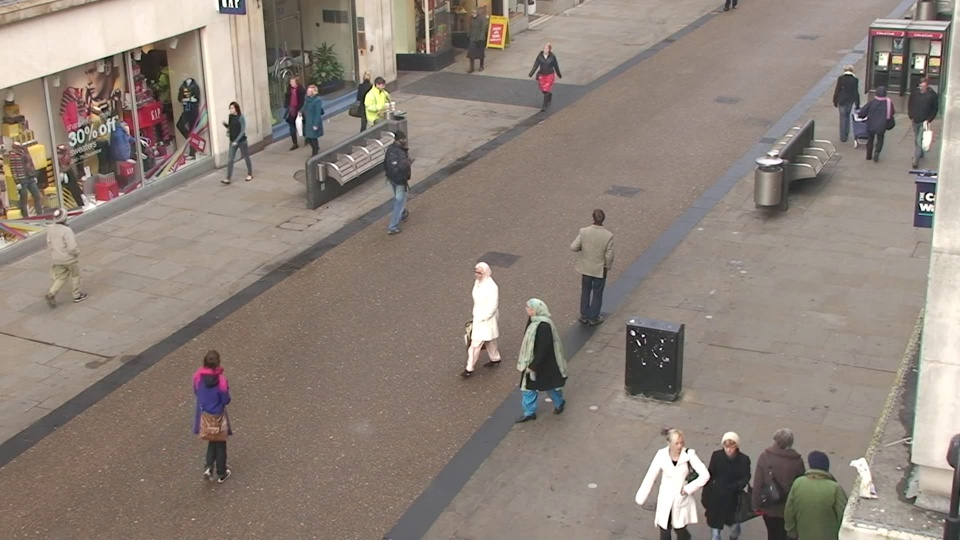pedestrian: (188, 339, 248, 491), (750, 415, 812, 540), (697, 419, 758, 540), (645, 417, 704, 540), (782, 436, 847, 540), (512, 291, 557, 433), (40, 203, 95, 319), (463, 254, 507, 387), (579, 204, 617, 324), (898, 76, 941, 166), (857, 85, 896, 175), (385, 127, 419, 226), (220, 98, 255, 187), (830, 60, 865, 144), (299, 80, 330, 164), (281, 72, 312, 154), (367, 74, 397, 157), (354, 67, 383, 148), (535, 40, 560, 114), (467, 4, 490, 69)
